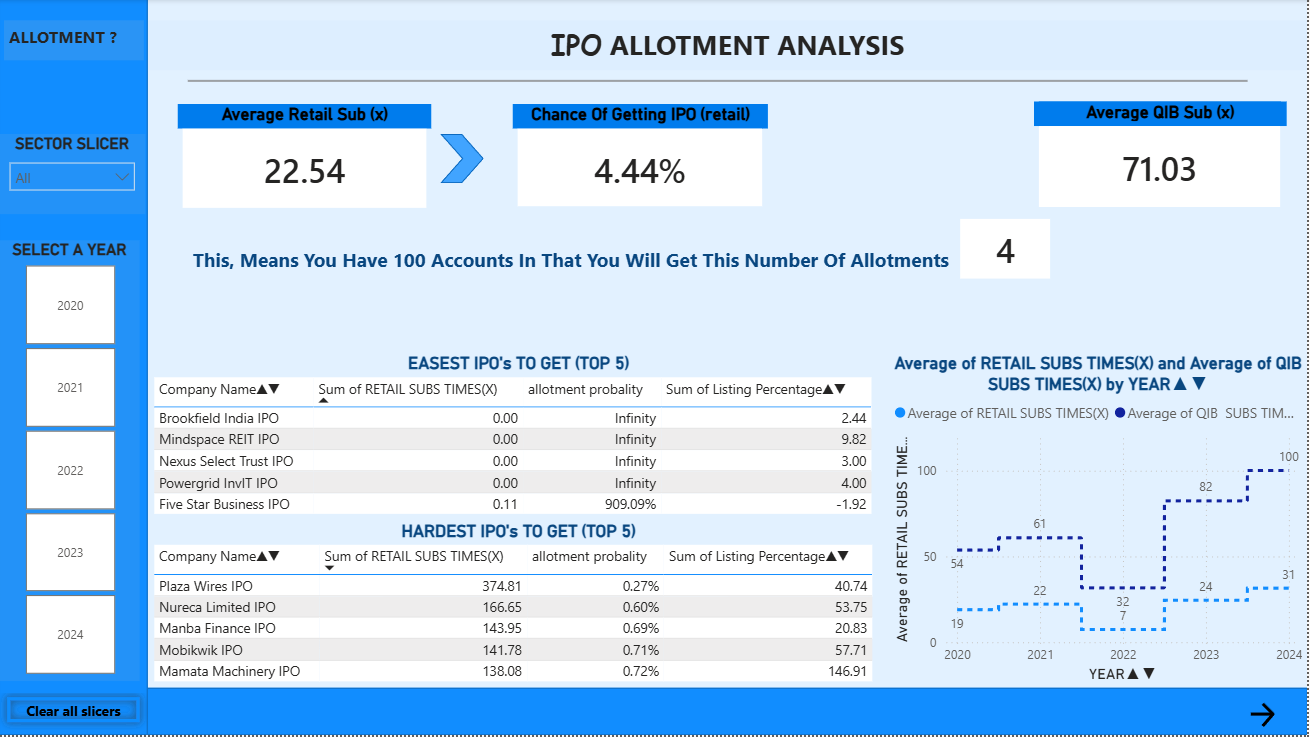

Layout of this report page (visuals, bound fields, positions):
{"tool":"powerbi","page":{"name":"IPO Allotment Analysis","canvas":[1280,720],"ordinal":2},"visuals":[{"type":"shape","box":[124.7,673.8,1155.6,46.5],"z":0},{"type":"shape","box":[0,0,145.5,720.2],"z":1000},{"type":"slicer","title":"SELECT A YEAR","fields":{"Values":["Table 1 (data for analysis).YEAR▲▼"]},"box":[0,236.5,137.7,431.3],"z":2000},{"type":"actionButton","box":[0,675,145.5,40.4],"z":3000},{"type":"actionButton","box":[1214.3,679.6,45.2,40.4],"z":4000},{"type":"textbox","box":[4.9,20.8,137,39.1],"z":5000},{"type":"textbox","box":[145.5,20.8,1134.8,48.9],"z":6000},{"type":"shape","box":[184.6,40.4,1037,79.5],"z":7000},{"type":"cardVisual","title":"Average Retail Sub (x)","fields":{"Data":["Avg(Table 1 (data for analysis).RETAIL SUBS TIMES(X))"]},"box":[174.3,102.9,248.4,107],"z":8000},{"type":"cardVisual","title":"Average QIB Sub (x)","fields":{"Data":["Avg(Table 1 (data for analysis).QIB  SUBS TIMES(X))"]},"box":[1012.7,100.2,247,108.4],"z":9000},{"type":"cardVisual","title":"Chance Of Getting IPO (retail)","fields":{"Data":["Parameter.allotment probality"]},"box":[502.2,102.9,249.7,105.7],"z":10000},{"type":"shape","box":[432.2,131.7,42.5,48],"z":11000},{"type":"tableEx","title":"HARDEST IPO''s TO GET (TOP 5)","fields":{"Values":["Table 1 (data for analysis).Company Name▲▼","Sum(Table 1 (data for analysis).RETAIL SUBS TIMES(X))","Parameter.allotment probality","Sum(Table 1 (data for analysis).Listing Percentage▲▼)"]},"box":[145.6,509.6,725.3,164.8],"z":12000},{"type":"tableEx","title":"EASEST  IPO''s TO GET (TOP 5)","fields":{"Values":["Table 1 (data for analysis).Company Name▲▼","Sum(Table 1 (data for analysis).RETAIL SUBS TIMES(X))","Parameter.allotment probality","Sum(Table 1 (data for analysis).Listing Percentage▲▼)"]},"box":[145.6,346.2,725.3,163.5],"z":13000},{"type":"slicer","title":"SECTOR SLICER","fields":{"Values":["Table1.Standardized Sector▲▼"]},"box":[0,131.9,142.9,78.3],"z":14000},{"type":"lineChart","fields":{"Category":["Table 1 (data for analysis).YEAR▲▼"],"Y":["Avg(Table 1 (data for analysis).RETAIL SUBS TIMES(X))","Avg(Table 1 (data for analysis).QIB  SUBS TIMES(X))"]},"box":[870.9,346.2,409.4,326.9],"z":15000},{"type":"textbox","box":[185,236.7,848.3,41.7],"z":16000},{"type":"cardVisual","title":"Chance Of Getting IPO (retail)","fields":{"Data":["Parameter.no.allotment"]},"box":[935,210,98.3,68.3],"z":17000}]}

Visuals, with their boxes in screenshot pixels (x1, y1, x2, y2), scaled from the page's 1280x720 canvas onto the 1310x737 screenshot:
shape: Rect(128, 690, 1309, 736)
shape: Rect(0, 0, 149, 736)
"SELECT A YEAR" slicer: Rect(0, 242, 141, 684)
actionButton: Rect(0, 691, 149, 732)
actionButton: Rect(1243, 696, 1289, 736)
textbox: Rect(5, 21, 145, 61)
textbox: Rect(149, 21, 1309, 71)
shape: Rect(189, 41, 1250, 123)
"Average Retail Sub (x)" cardVisual: Rect(178, 105, 433, 215)
"Average QIB Sub (x)" cardVisual: Rect(1036, 103, 1289, 214)
"Chance Of Getting IPO (retail)" cardVisual: Rect(514, 105, 770, 214)
shape: Rect(442, 135, 486, 184)
"HARDEST IPO''s TO GET (TOP 5)" tableEx: Rect(149, 522, 891, 690)
"EASEST  IPO''s TO GET (TOP 5)" tableEx: Rect(149, 354, 891, 522)
"SECTOR SLICER" slicer: Rect(0, 135, 146, 215)
lineChart - Table 1 (data for analysis).YEAR▲▼ x Avg(Table 1 (data for analysis).RETAIL SUBS TIMES(X)): Rect(891, 354, 1309, 689)
textbox: Rect(189, 242, 1058, 285)
"Chance Of Getting IPO (retail)" cardVisual: Rect(957, 215, 1058, 285)
